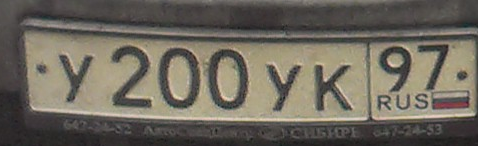character: (156, 45, 204, 114), (204, 43, 251, 111), (108, 44, 155, 110), (310, 59, 358, 116), (263, 59, 304, 115), (57, 50, 97, 105), (375, 44, 414, 94), (416, 43, 453, 91)
